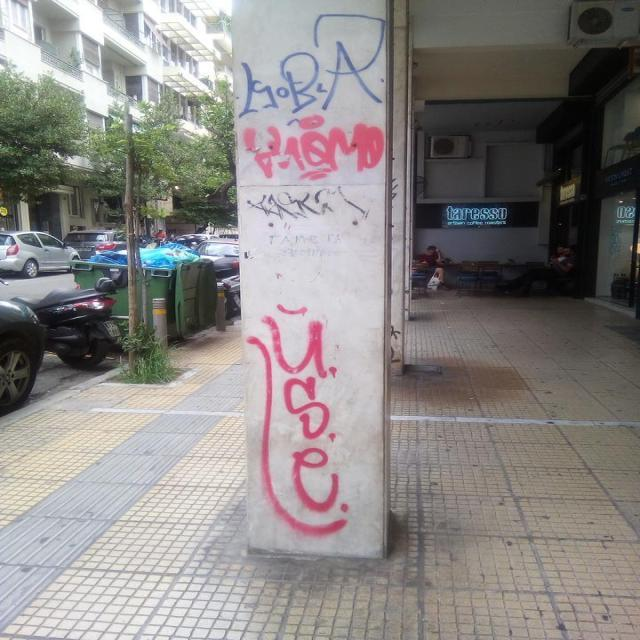nonspitting: (246, 304, 350, 532), (239, 13, 386, 124), (244, 116, 384, 183), (250, 187, 372, 227)
